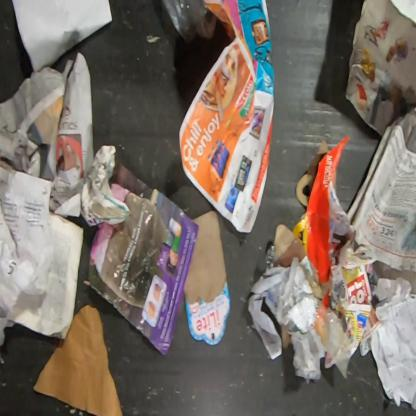cardboard: (291, 136, 350, 284), (184, 210, 232, 347), (323, 288, 330, 308)
soft_plastic: (311, 303, 354, 379), (162, 0, 218, 44), (265, 245, 275, 268)
